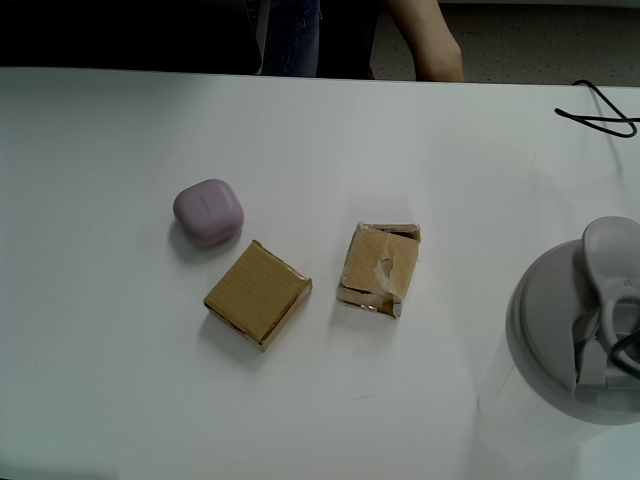defect: (334, 221, 427, 321)
normal: (203, 240, 316, 353)
